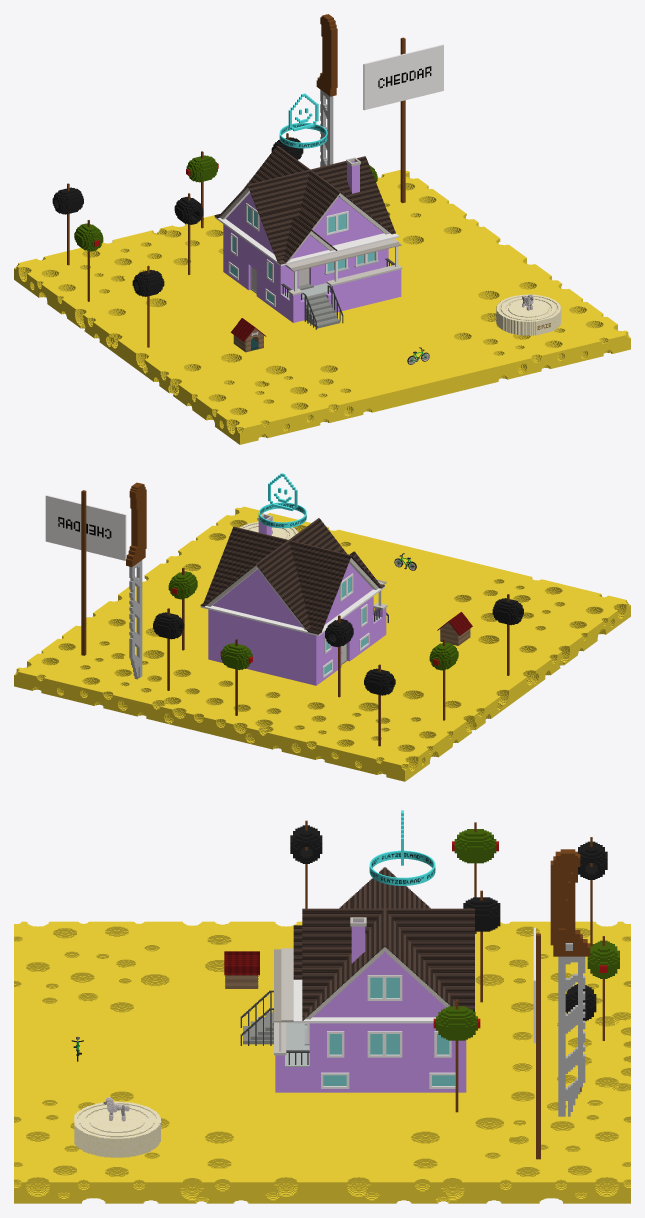
The picture shows the model from 3 angles, top to bottom: view 1: azimuth 30°, elevation 25°; view 2: azimuth 150°, elevation 25°; view 3: azimuth 270°, elevation 25°; orthographic projection. The views are drawn at different scales.
Visible parts, largest first — view 1: TERRAIN_CHEESE, HOUSE_LILAC_BROWN, TYPE_PREMIUM, OBJ_RANDOM_CASA_DE_PERRO; view 2: TERRAIN_CHEESE, HOUSE_LILAC_BROWN, TYPE_PREMIUM, OBJ_RANDOM_CASA_DE_PERRO; view 3: TERRAIN_CHEESE, HOUSE_LILAC_BROWN, OBJ_RANDOM_CASA_DE_PERRO, TYPE_PREMIUM.
Part boxes in pixels (x1,y1,x2,y2): TERRAIN_CHEESE: [14, 14, 630, 444]; HOUSE_LILAC_BROWN: [214, 145, 402, 329]; TYPE_PREMIUM: [279, 93, 327, 148]; OBJ_RANDOM_CASA_DE_PERRO: [231, 318, 266, 352]; TERRAIN_CHEESE: [14, 482, 630, 781]; HOUSE_LILAC_BROWN: [200, 513, 388, 685]; TYPE_PREMIUM: [258, 473, 306, 528]; OBJ_RANDOM_CASA_DE_PERRO: [437, 612, 472, 645]; TERRAIN_CHEESE: [14, 820, 630, 1203]; HOUSE_LILAC_BROWN: [240, 867, 474, 1092]; OBJ_RANDOM_CASA_DE_PERRO: [224, 951, 259, 988]; TYPE_PREMIUM: [369, 810, 435, 885].
Size of the model in its own units: 4032 by 2072 by 4000.
11 materials, 10 textured.
